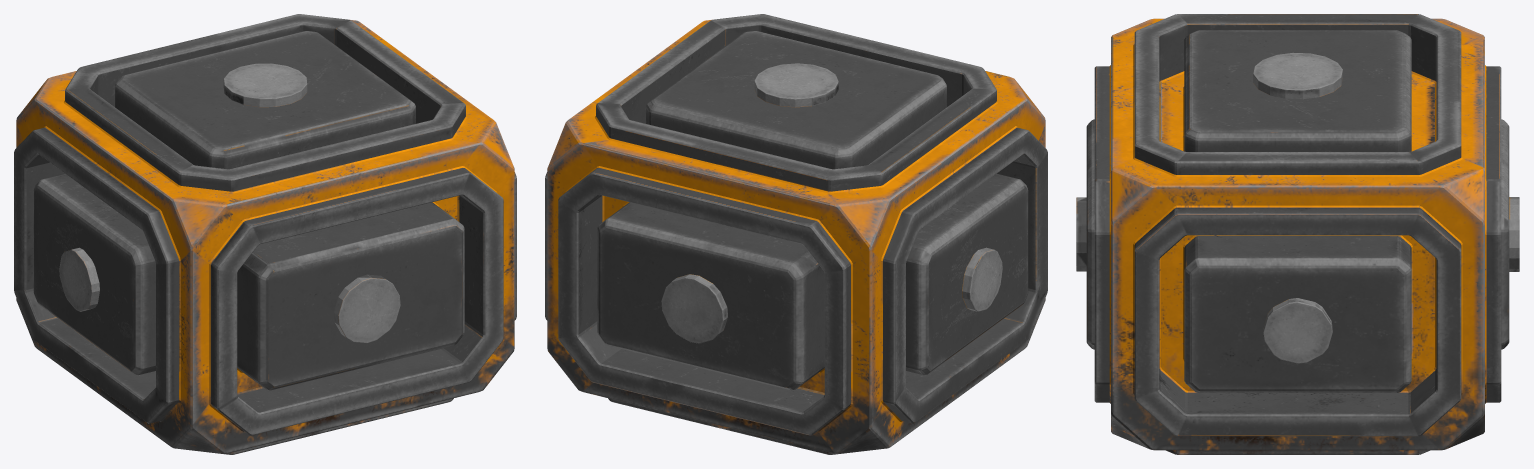
File: pbrtest.fbx
3 renders of one model, left to right at view 1: azimuth 30°, elevation 25°; view 2: azimuth 150°, elevation 25°; view 3: azimuth 270°, elevation 25°, orthographic. The views are drawn at different scales.
Visible parts, largest first — view 1: SciFiBox; view 2: SciFiBox; view 3: SciFiBox.
Part boxes in pixels (x1,y1,x2,y2): SciFiBox: (14,14,516,454); SciFiBox: (545,14,1047,454); SciFiBox: (1076,14,1519,454).
Size of the model in its own units: 1 by 0.75 by 0.95.
Materials: 1 (1 with a texture image).
